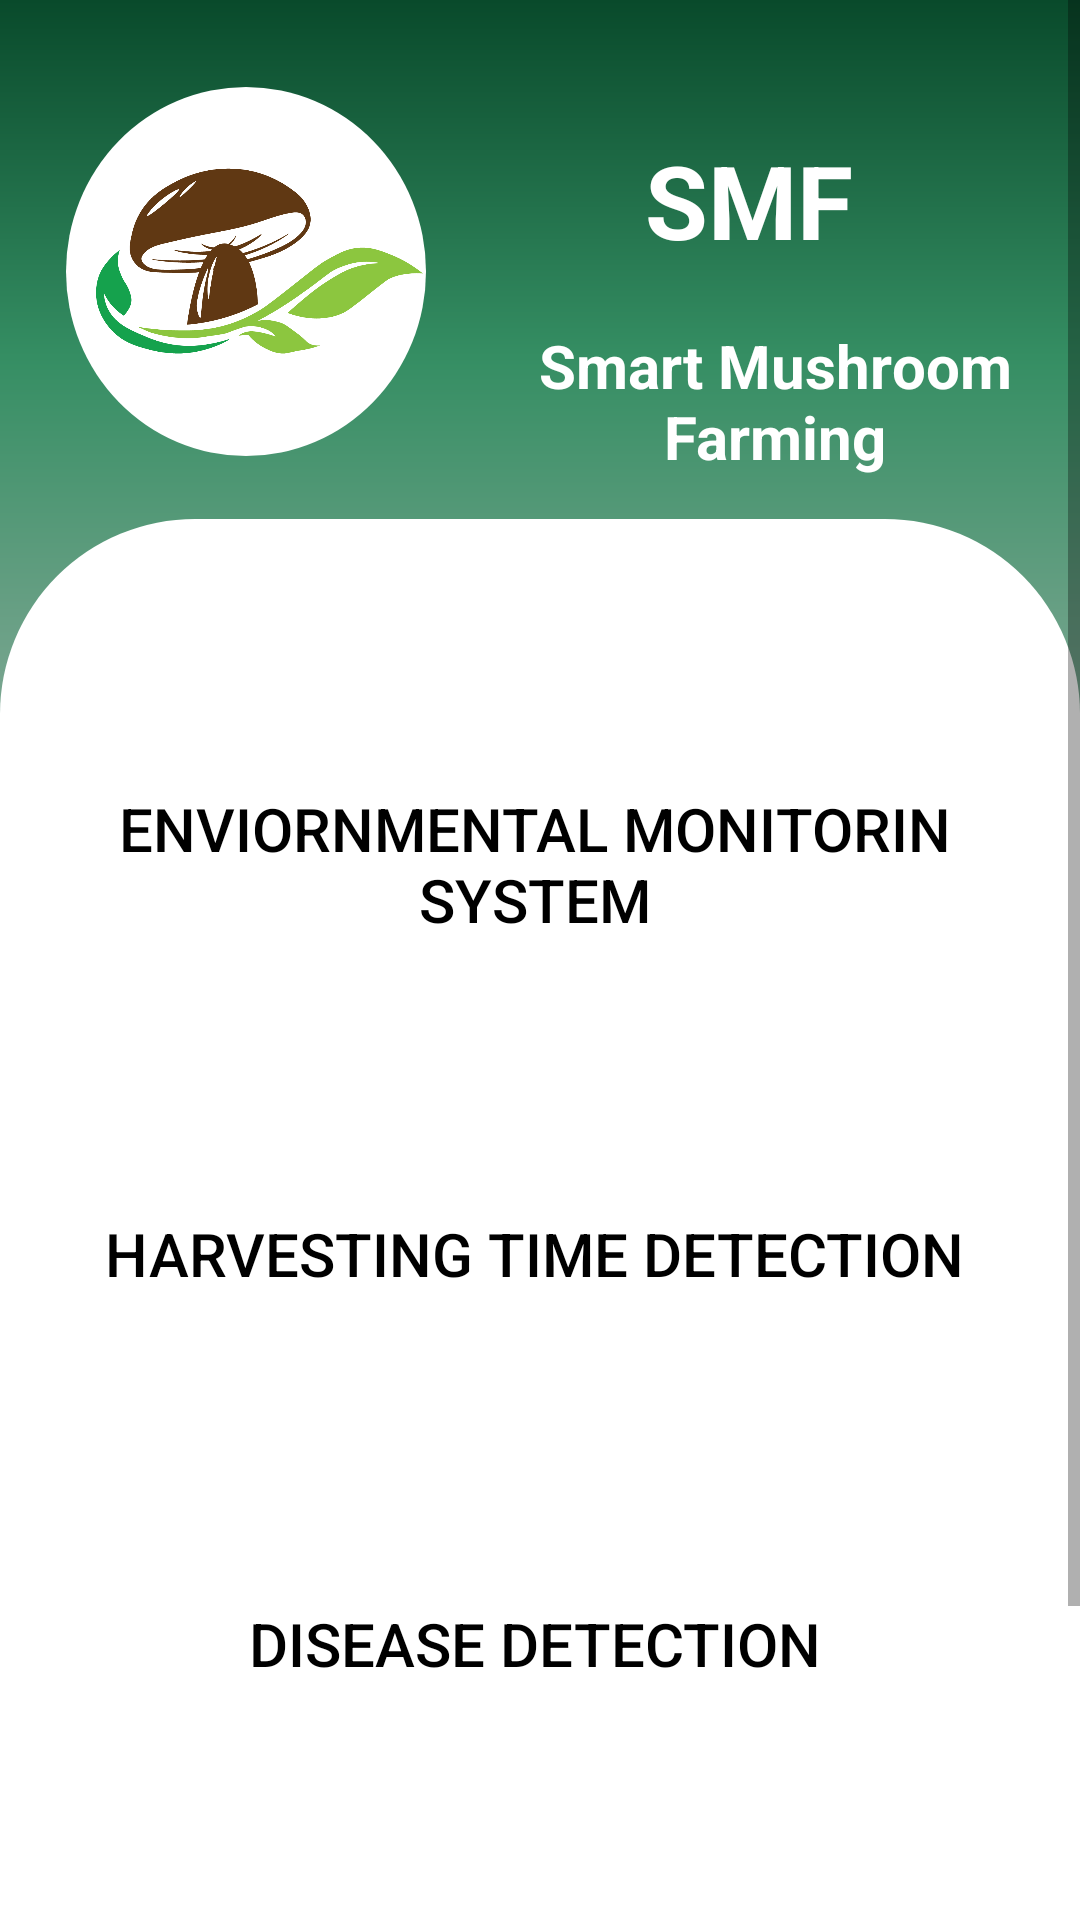

Icon click points for this 1080w x 1920h phone screenshot, format [x,y]:
mashroom: [259,261]
